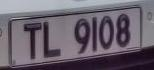0: (98, 11, 117, 53)
1: (90, 13, 100, 55)
8: (115, 12, 133, 51)
9: (73, 15, 91, 55)
L: (40, 19, 67, 63)
T: (18, 19, 45, 66)
